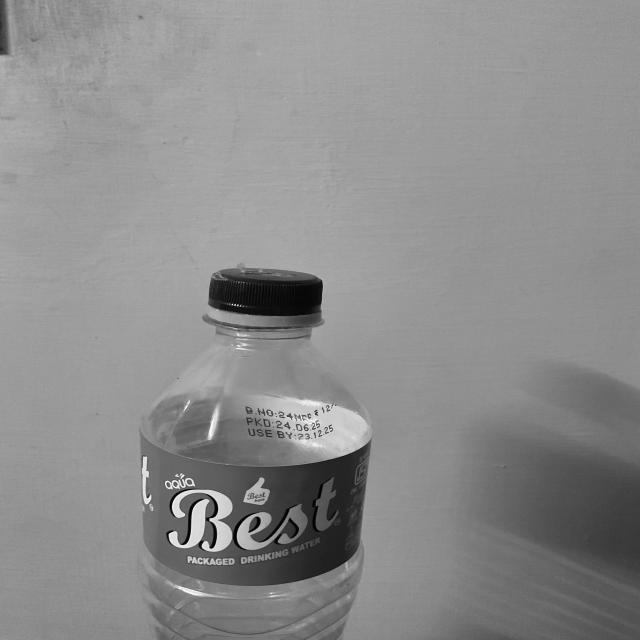Good-cap-Df0S: (202, 269, 327, 332)
